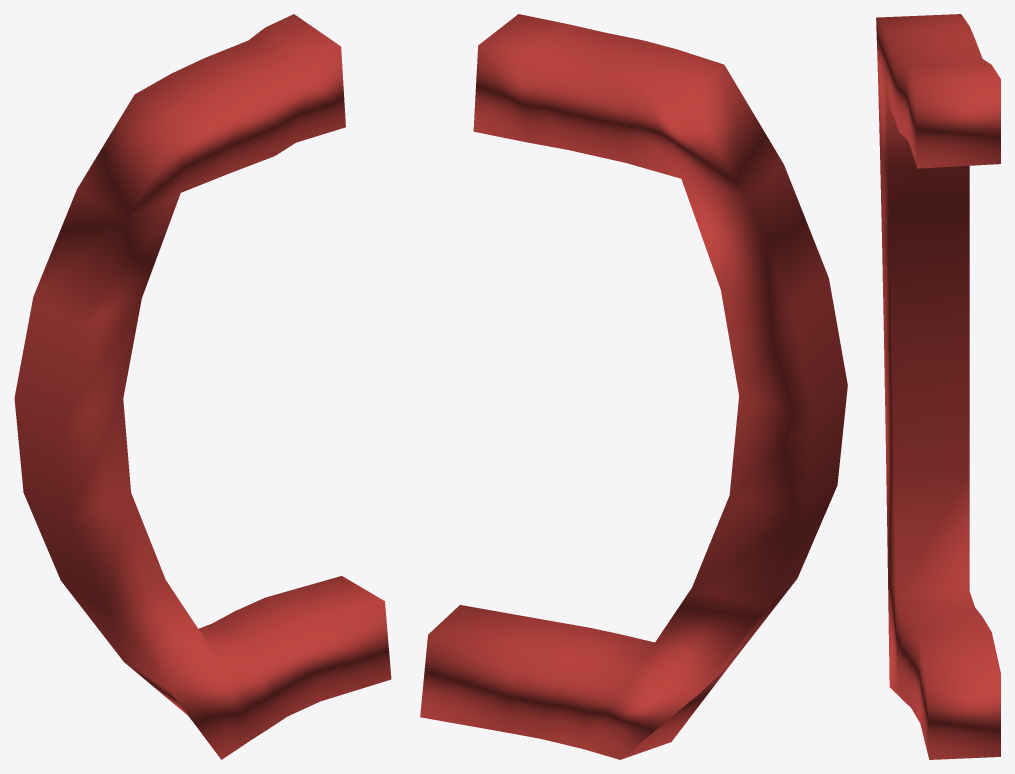
Rendered from JarHolder.fbx.
3 views of the same model, side by side, from view 1: azimuth 30°, elevation 25°; view 2: azimuth 150°, elevation 25°; view 3: azimuth 270°, elevation 25° (orthographic). The views are drawn at different scales.
Visible parts, largest first — view 1: Cylinder.002; view 2: Cylinder.002; view 3: Cylinder.002.
Boxes of the visible parts, x1=… form: Cylinder.002: x1=14, y1=14, x2=391, y2=759; Cylinder.002: x1=420, y1=14, x2=847, y2=759; Cylinder.002: x1=876, y1=14, x2=1000, y2=759.
Bounding box in the file's own units: 74.78 × 133 × 22.5.
